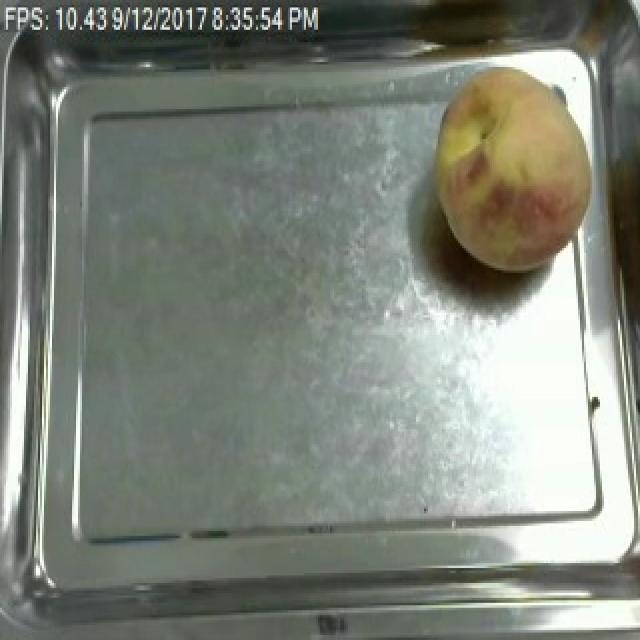Fruit: (422, 52, 610, 280)
